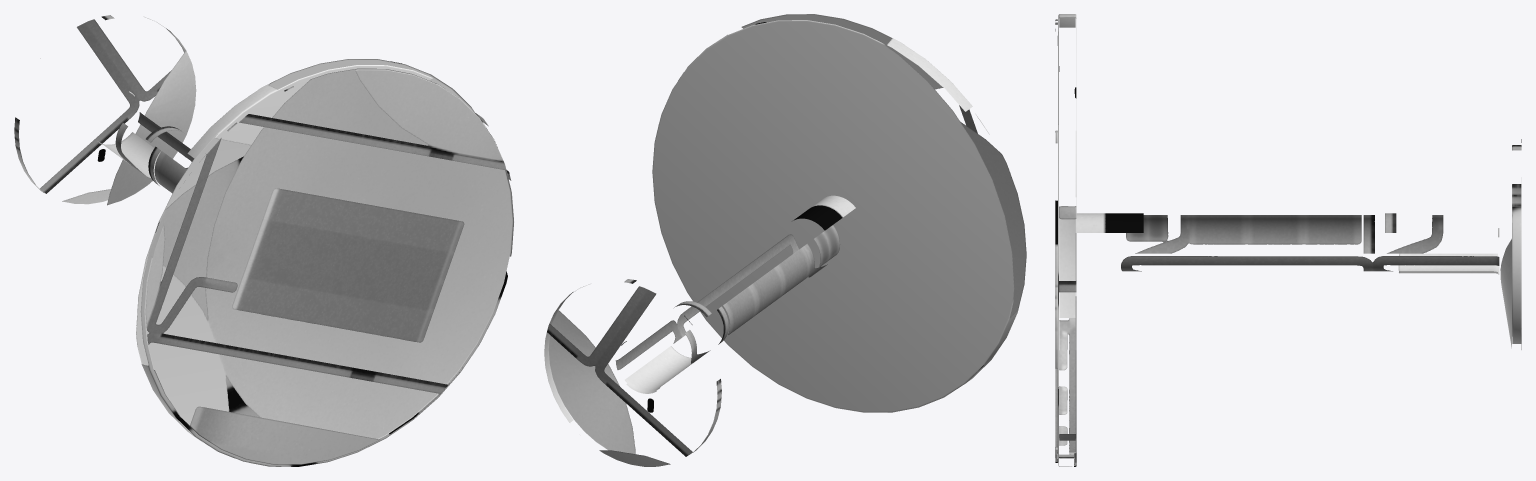
The picture shows the model from 3 angles, left to right: view 1: azimuth 30°, elevation 25°; view 2: azimuth 150°, elevation 25°; view 3: azimuth 270°, elevation 25°; orthographic projection. The views are drawn at different scales.
Bounding box in the file's own units: 0.6823 × 0.6823 × 0.7024.
